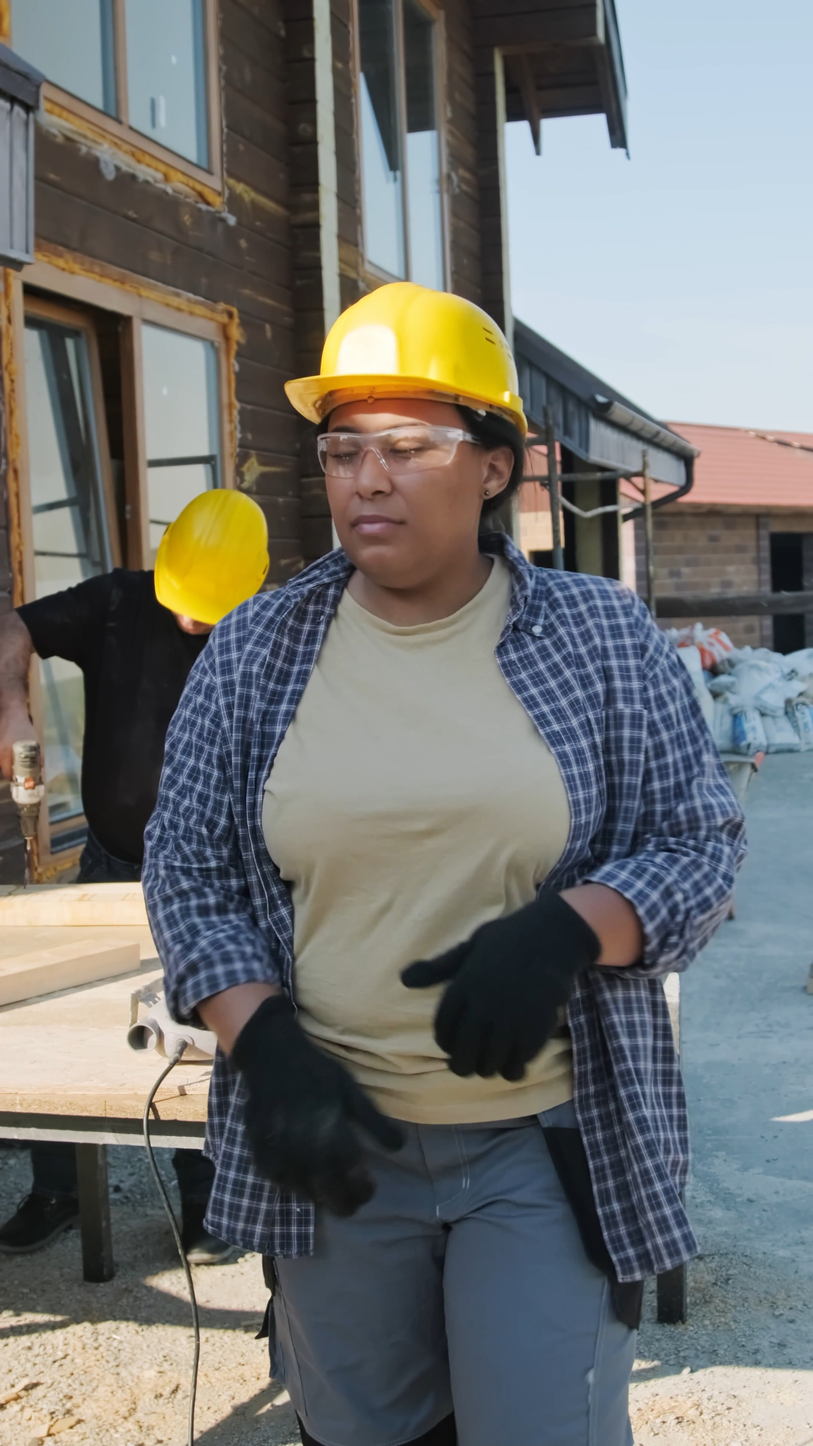gloves: (214, 1010, 435, 1220), (397, 896, 617, 1086)
